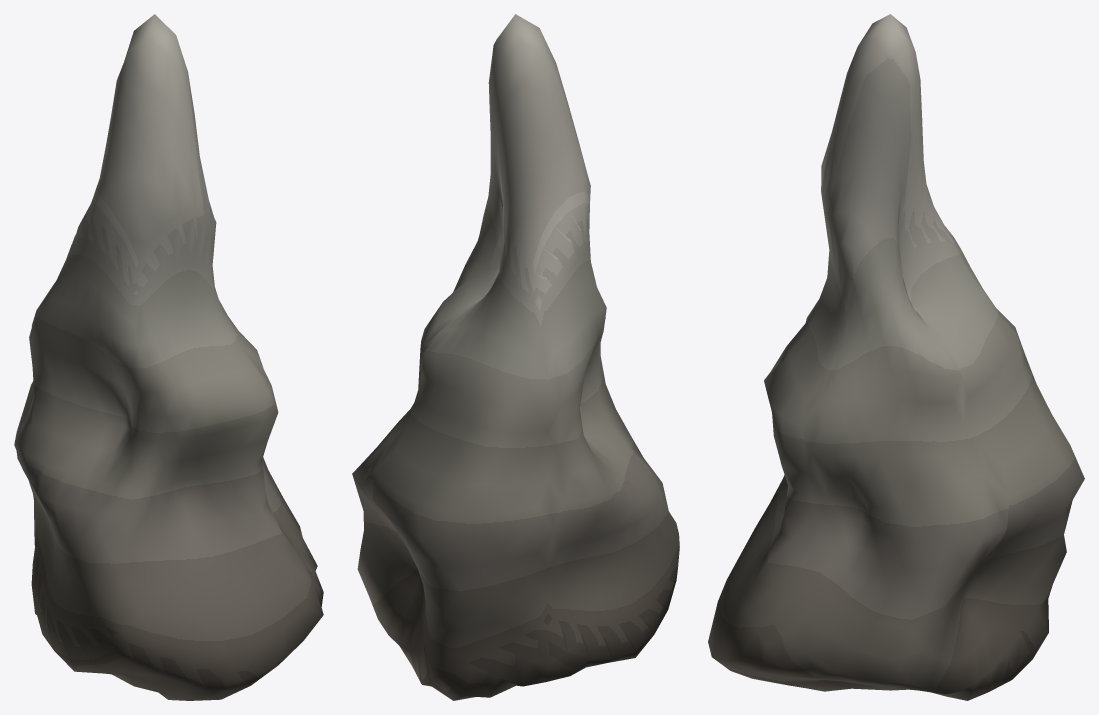
File: DL_Obj_Level5_MineStalagmite3.fbx
3 renders of one model, left to right at view 1: azimuth 30°, elevation 25°; view 2: azimuth 150°, elevation 25°; view 3: azimuth 270°, elevation 25°, orthographic. The views are drawn at different scales.
Visible parts, largest first — view 1: Level5_MineStalagmite03; view 2: Level5_MineStalagmite03; view 3: Level5_MineStalagmite03.
Part boxes in pixels (x1,y1,x2,y2): Level5_MineStalagmite03: (14, 14, 323, 700); Level5_MineStalagmite03: (352, 14, 679, 700); Level5_MineStalagmite03: (708, 14, 1084, 700).
Size of the model in its own units: 194 by 466 by 232.
